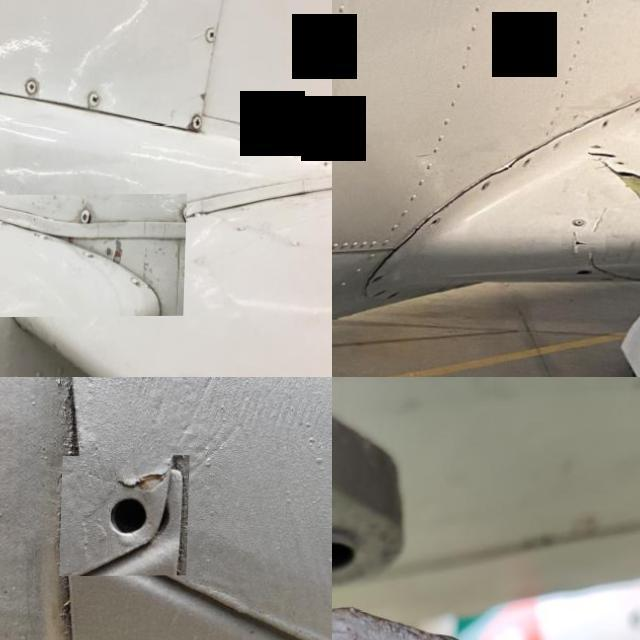Crack: (0, 194, 188, 317), (438, 138, 524, 214), (588, 138, 640, 208), (365, 223, 428, 277), (575, 79, 640, 119), (563, 232, 608, 254)
Missing_Fastener: (62, 456, 192, 576), (374, 276, 387, 284), (432, 220, 444, 228), (524, 158, 534, 167), (601, 120, 611, 129), (377, 290, 388, 298), (582, 270, 592, 278)
